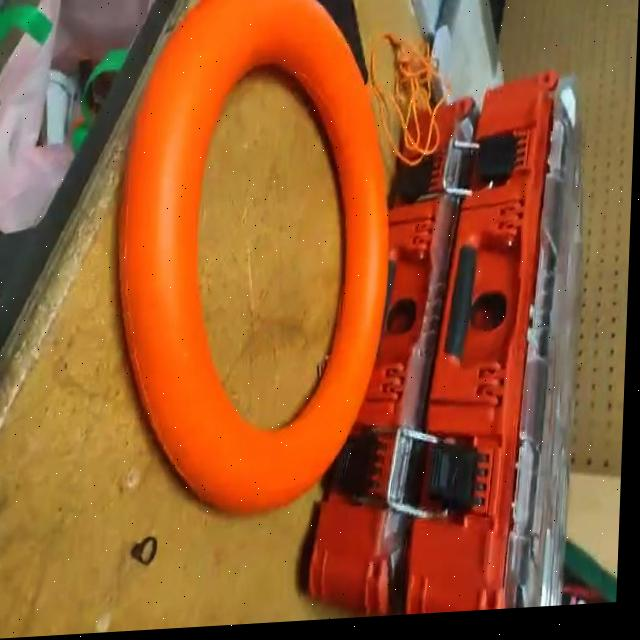note: (104, 0, 401, 529)
